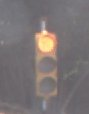Red: (29, 29, 62, 97)
